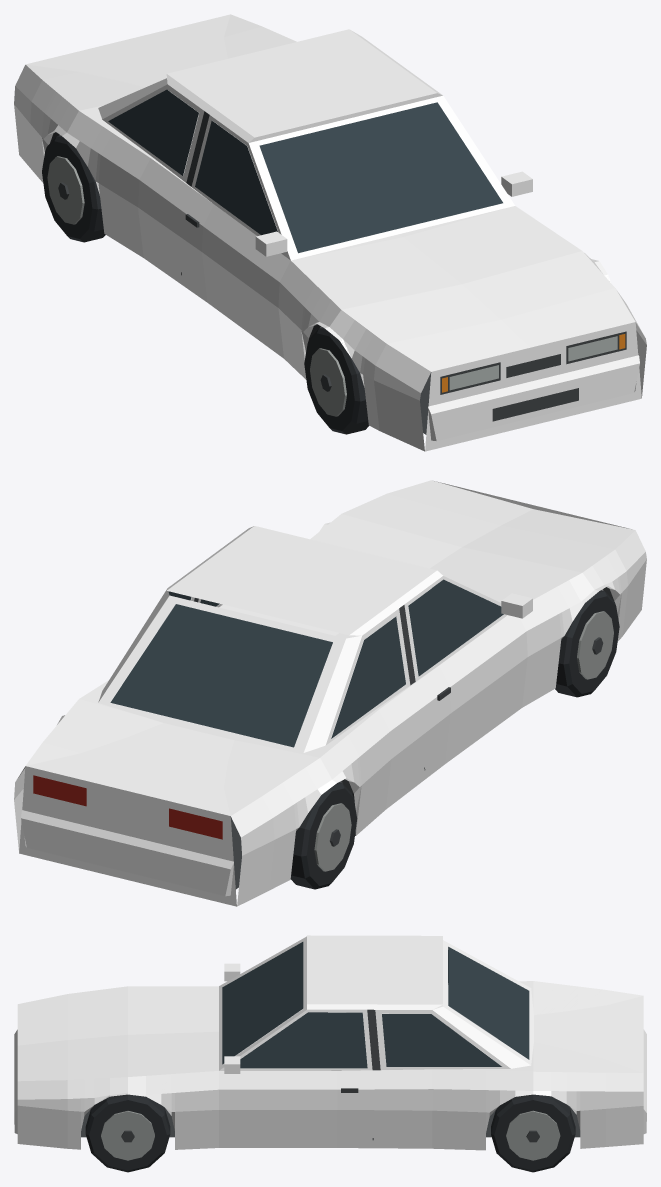
Rendered from keldorf_wachtel.glb.
3 views of the same model, one above another, from view 1: azimuth 30°, elevation 25°; view 2: azimuth 150°, elevation 25°; view 3: azimuth 270°, elevation 25° (orthographic). The views are drawn at different scales.
Parts seen in each view (by area): view 1: keldorf_wachtel; view 2: keldorf_wachtel; view 3: keldorf_wachtel.
Boxes of the visible parts, box(x1,y1,x2,y2) form: keldorf_wachtel: box(14, 14, 646, 451); keldorf_wachtel: box(14, 480, 646, 906); keldorf_wachtel: box(14, 935, 646, 1172).
Size of the model in its own units: 1.82 by 1.26 by 4.7.
Materials: 8 (1 with a texture image).
